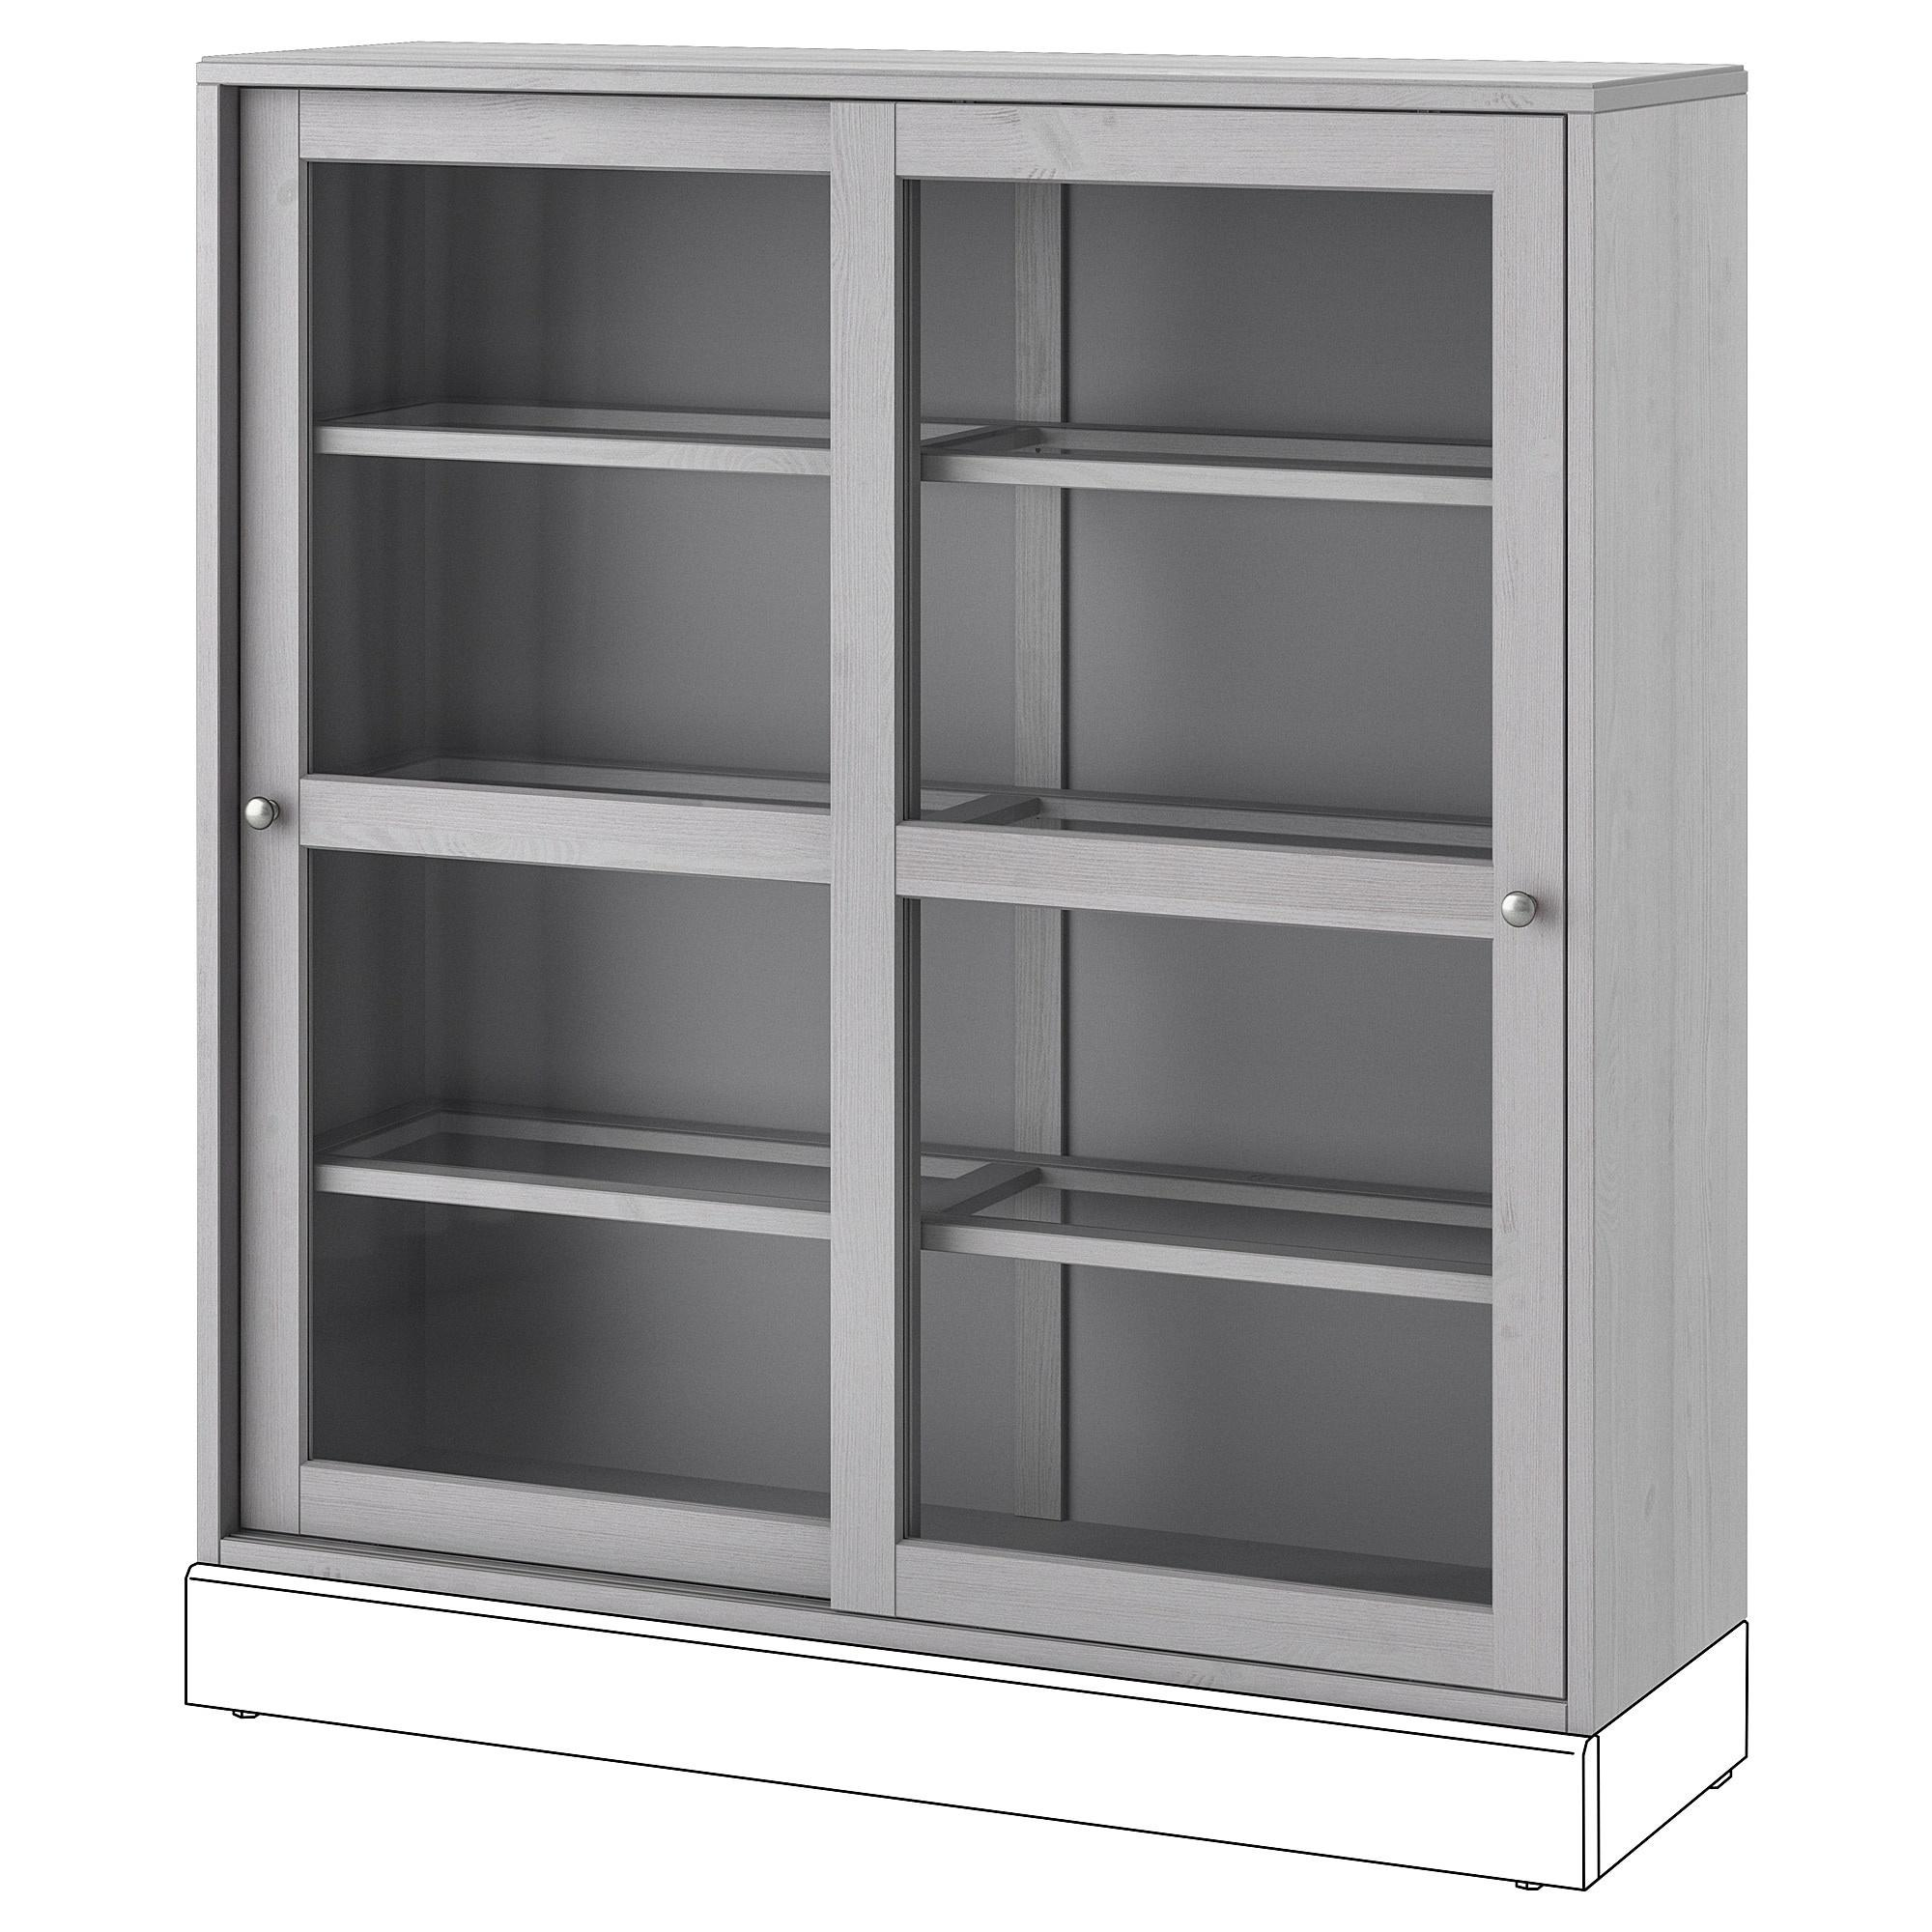cabinet_door: (828, 106, 1566, 1649), (232, 94, 828, 1587)
handle: (1495, 878, 1545, 941), (239, 789, 288, 851)
